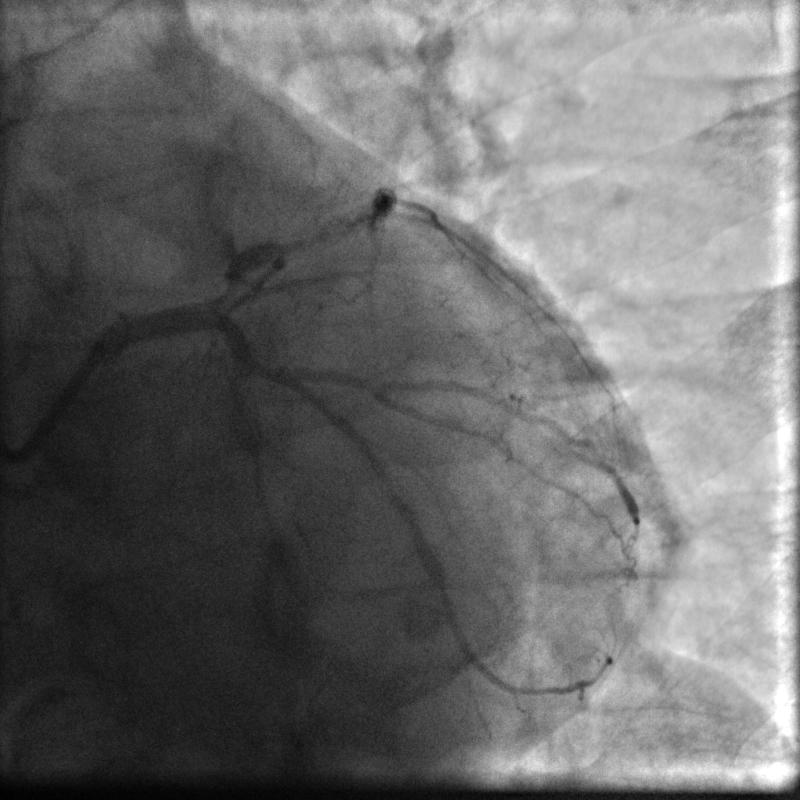Stenosis: (198, 264, 244, 307)
